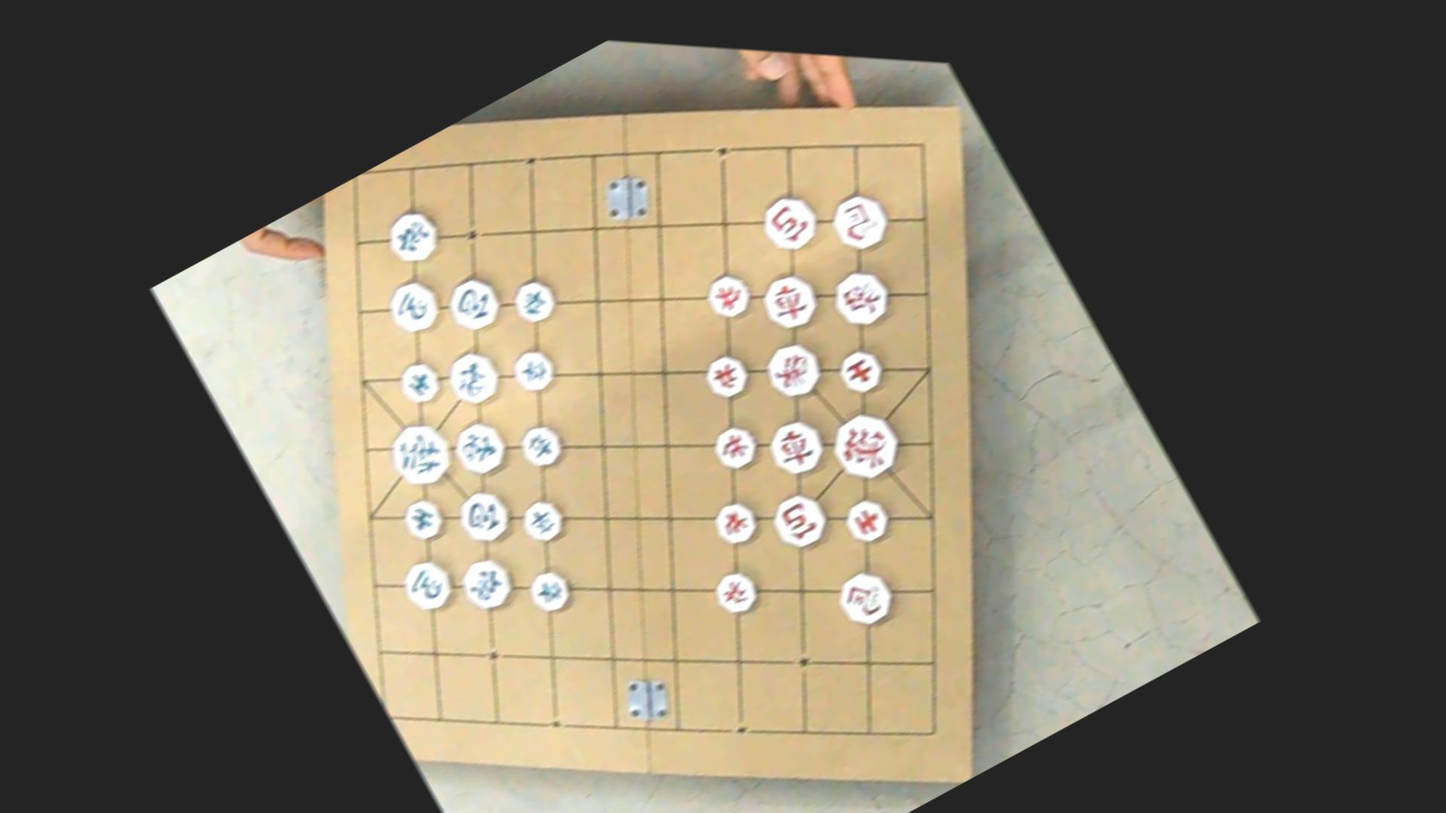cha_green: (453, 550, 521, 619), (380, 204, 447, 271)
cha_red: (752, 265, 826, 340), (760, 411, 834, 485)
jol_green: (506, 274, 562, 329), (514, 418, 569, 473), (506, 343, 560, 398), (515, 494, 569, 549), (523, 565, 577, 619)
jol_red: (706, 419, 764, 477), (699, 266, 757, 324), (707, 564, 764, 622), (706, 495, 764, 552), (698, 348, 755, 405)
ma_green: (380, 272, 448, 342), (395, 552, 461, 620)
ma_red: (822, 184, 898, 261), (830, 563, 901, 635)
po_green: (440, 269, 508, 339), (450, 483, 517, 551)
po_red: (752, 186, 825, 260), (764, 486, 835, 558)
sa_green: (392, 355, 446, 410), (397, 493, 450, 547)
sa_red: (838, 492, 896, 550), (831, 343, 889, 400)
sang_green: (439, 343, 508, 412), (446, 414, 514, 483)
sang_red: (824, 262, 898, 336), (757, 334, 830, 407)
wang_green: (380, 413, 462, 497)
wang_red: (822, 402, 910, 491)
